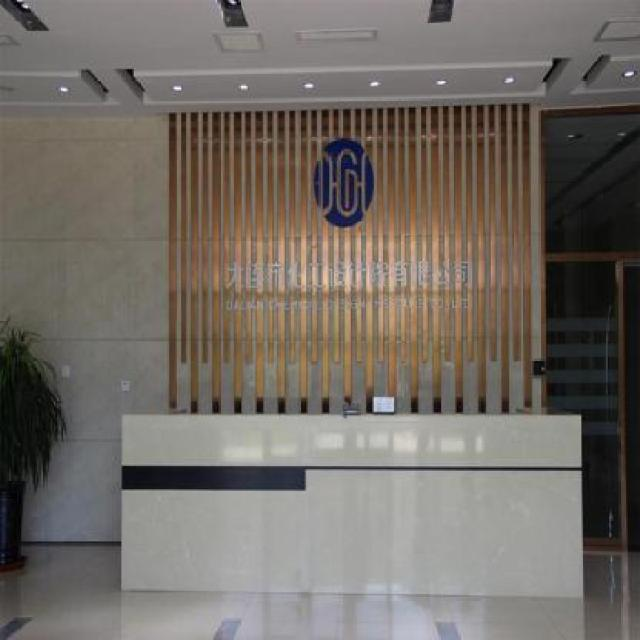frontdesk: (117, 397, 594, 611)
